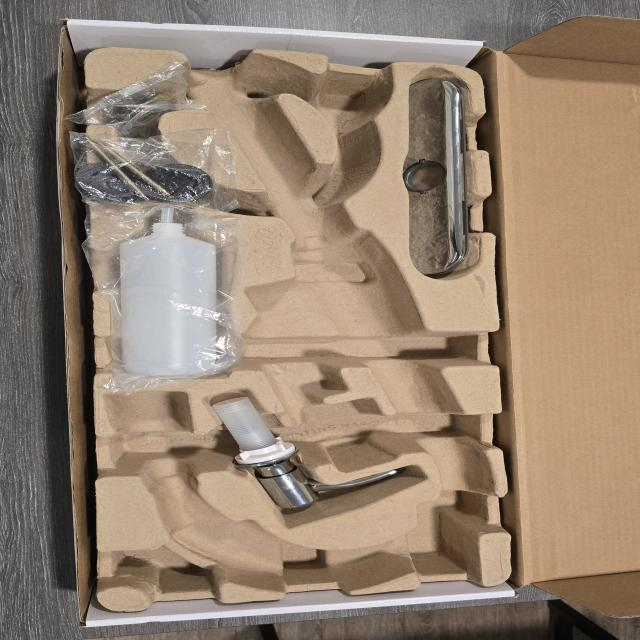1m: (105, 50, 493, 590)
2: (208, 396, 401, 510)
3: (115, 204, 218, 378)
4: (402, 79, 466, 277)
5m: (314, 79, 385, 132)
6: (65, 61, 212, 136)
7: (69, 124, 237, 208)
